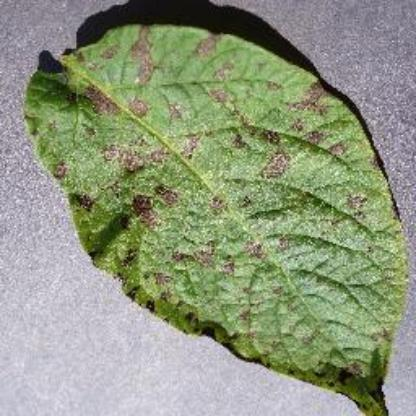Early-Blight: (20, 19, 398, 416)
